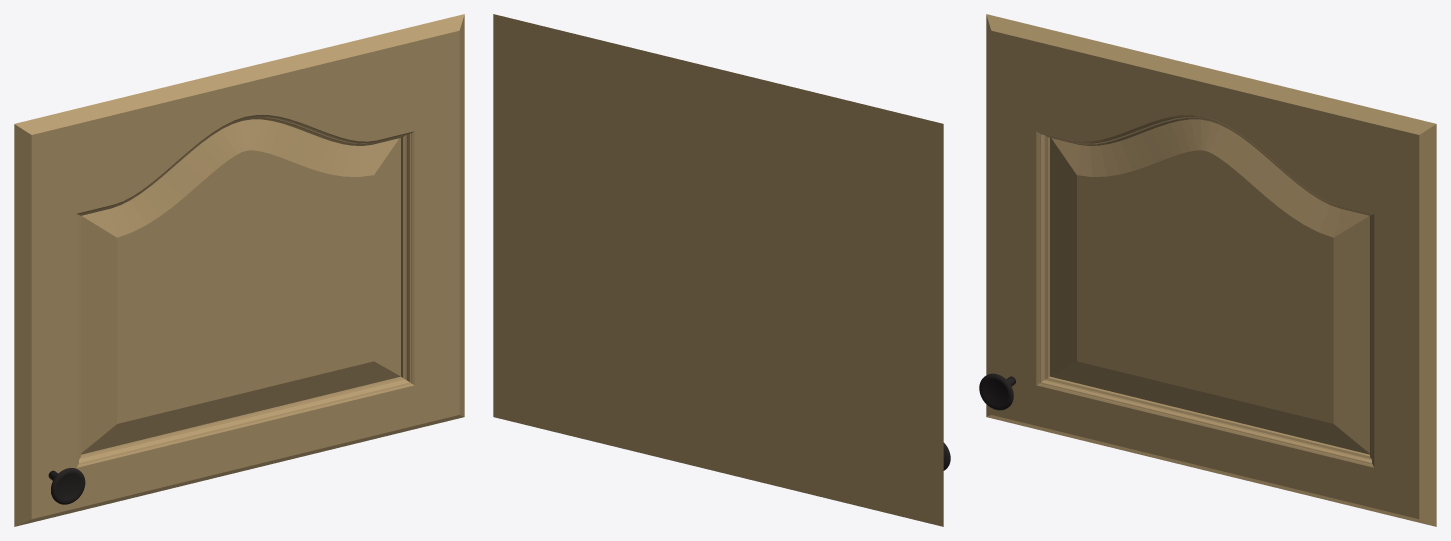
The model's file is shelfdoor.glb.
The picture shows the model from 3 angles, left to right: view 1: azimuth 30°, elevation 25°; view 2: azimuth 150°, elevation 25°; view 3: azimuth 330°, elevation 25°; orthographic projection.
Visible parts, largest first — view 1: Cube.001; view 2: Cube.001; view 3: Cube.001.
Boxes of the visible parts, <box> form: Cube.001: <box>14,14,464,526</box>; Cube.001: <box>493,14,950,526</box>; Cube.001: <box>979,14,1436,526</box>.
Bounding box in the file's own units: 2.12 × 1.81 × 0.1897.
